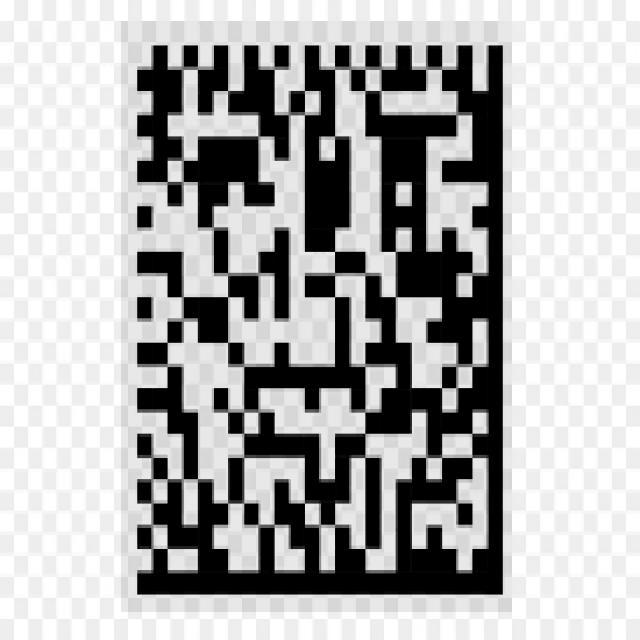Data-Matrix: (121, 21, 512, 612)
